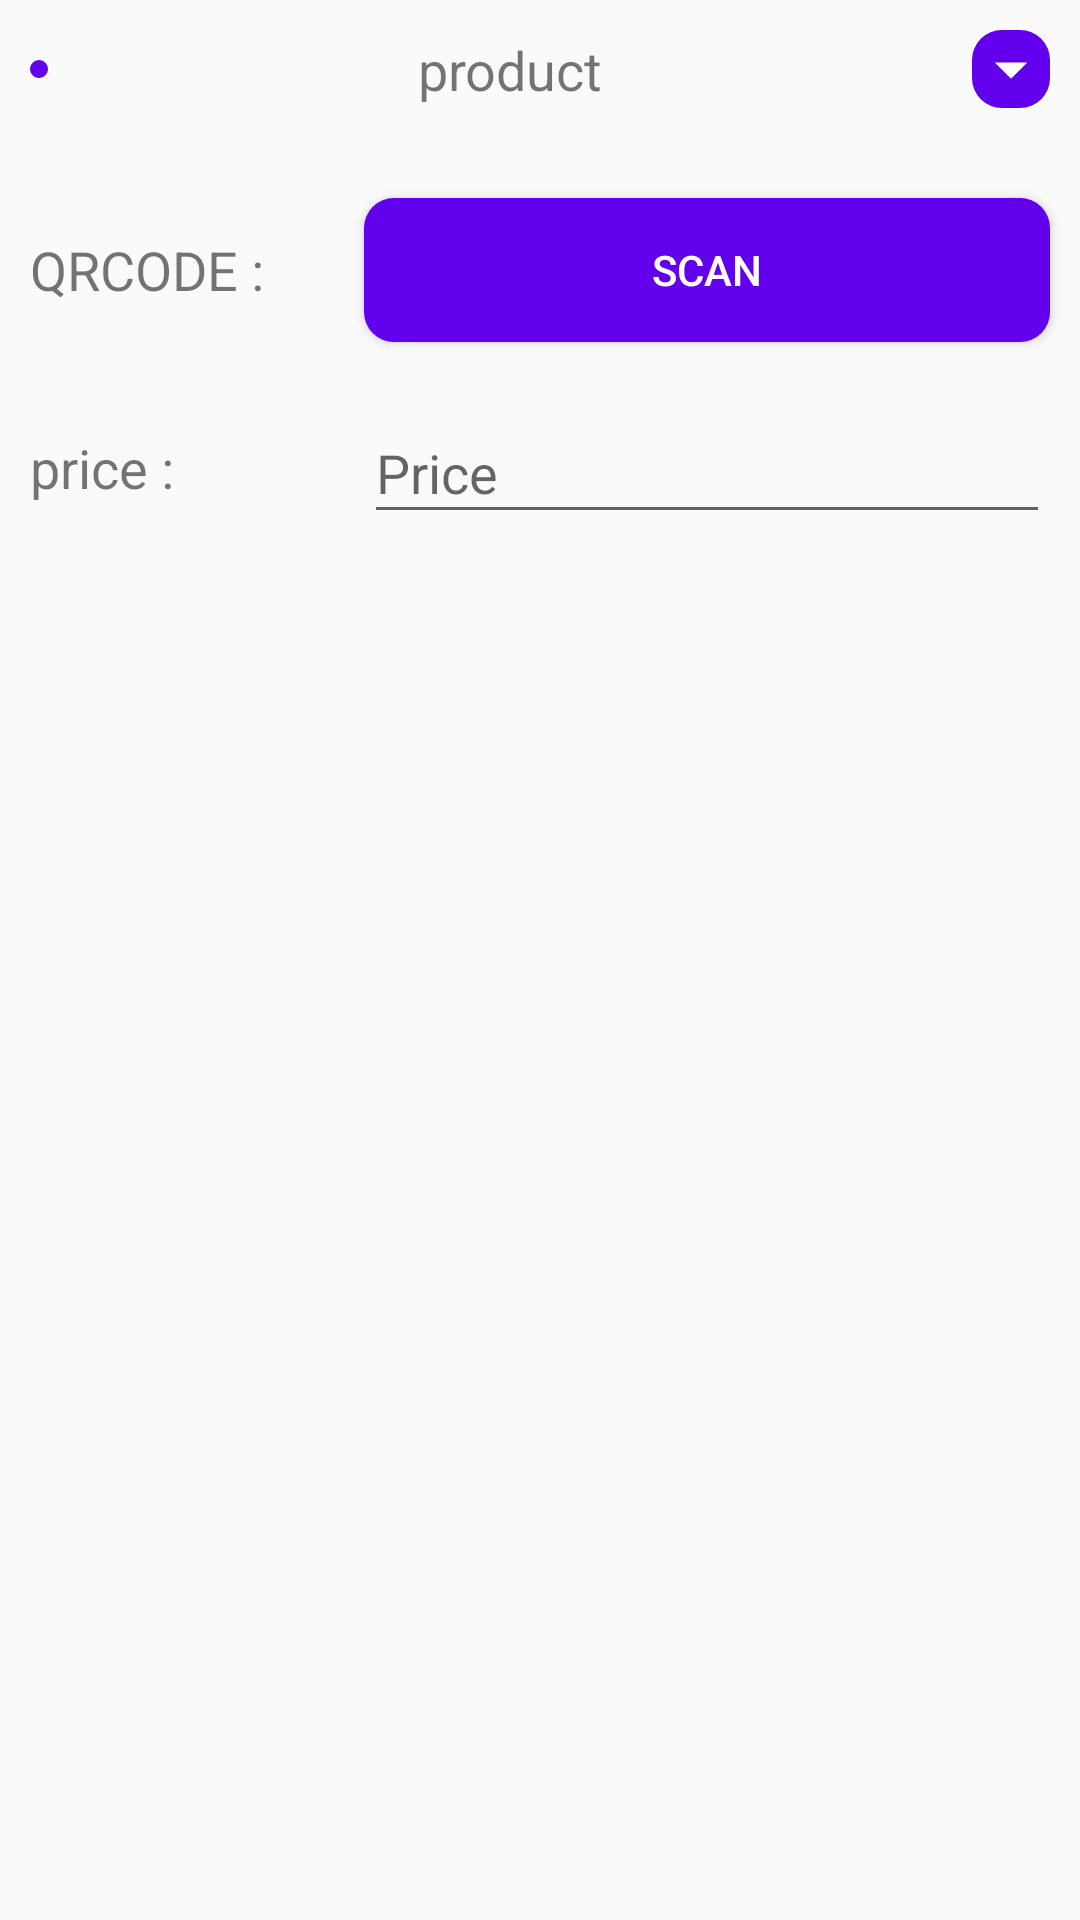

Icon click points for this 1080 × 1920 phone screenshot, format (x,y):
drop down: (1011,69)
